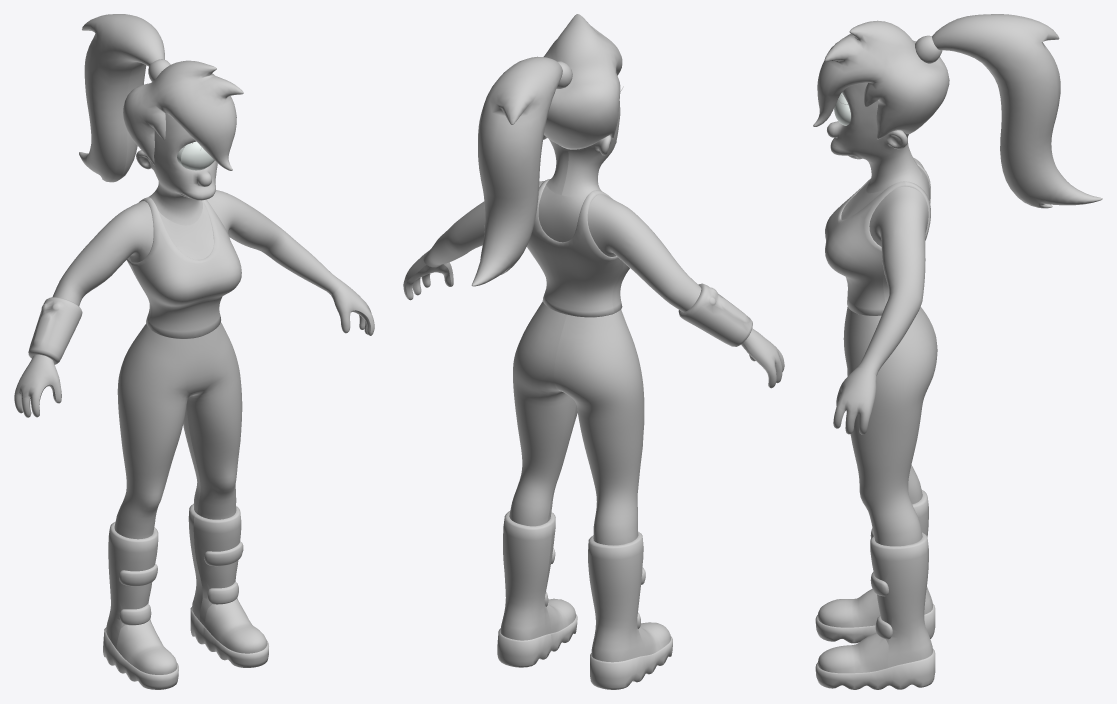
The model's file is Leela.fbx.
3 views of the same model, side by side, from view 1: azimuth 30°, elevation 25°; view 2: azimuth 150°, elevation 25°; view 3: azimuth 270°, elevation 25° (orthographic). The views are drawn at different scales.
Visible parts, largest first — view 1: F_MED_MuteRibbon_LOD0_mo_002; view 2: F_MED_MuteRibbon_LOD0_mo_002; view 3: F_MED_MuteRibbon_LOD0_mo_002.
Boxes of the visible parts, <box> form: F_MED_MuteRibbon_LOD0_mo_002: <box>14,14,374,689</box>; F_MED_MuteRibbon_LOD0_mo_002: <box>403,14,784,689</box>; F_MED_MuteRibbon_LOD0_mo_002: <box>813,14,1102,689</box>.
Bounding box in the file's own units: 1.15 × 1.87 × 0.7658.
